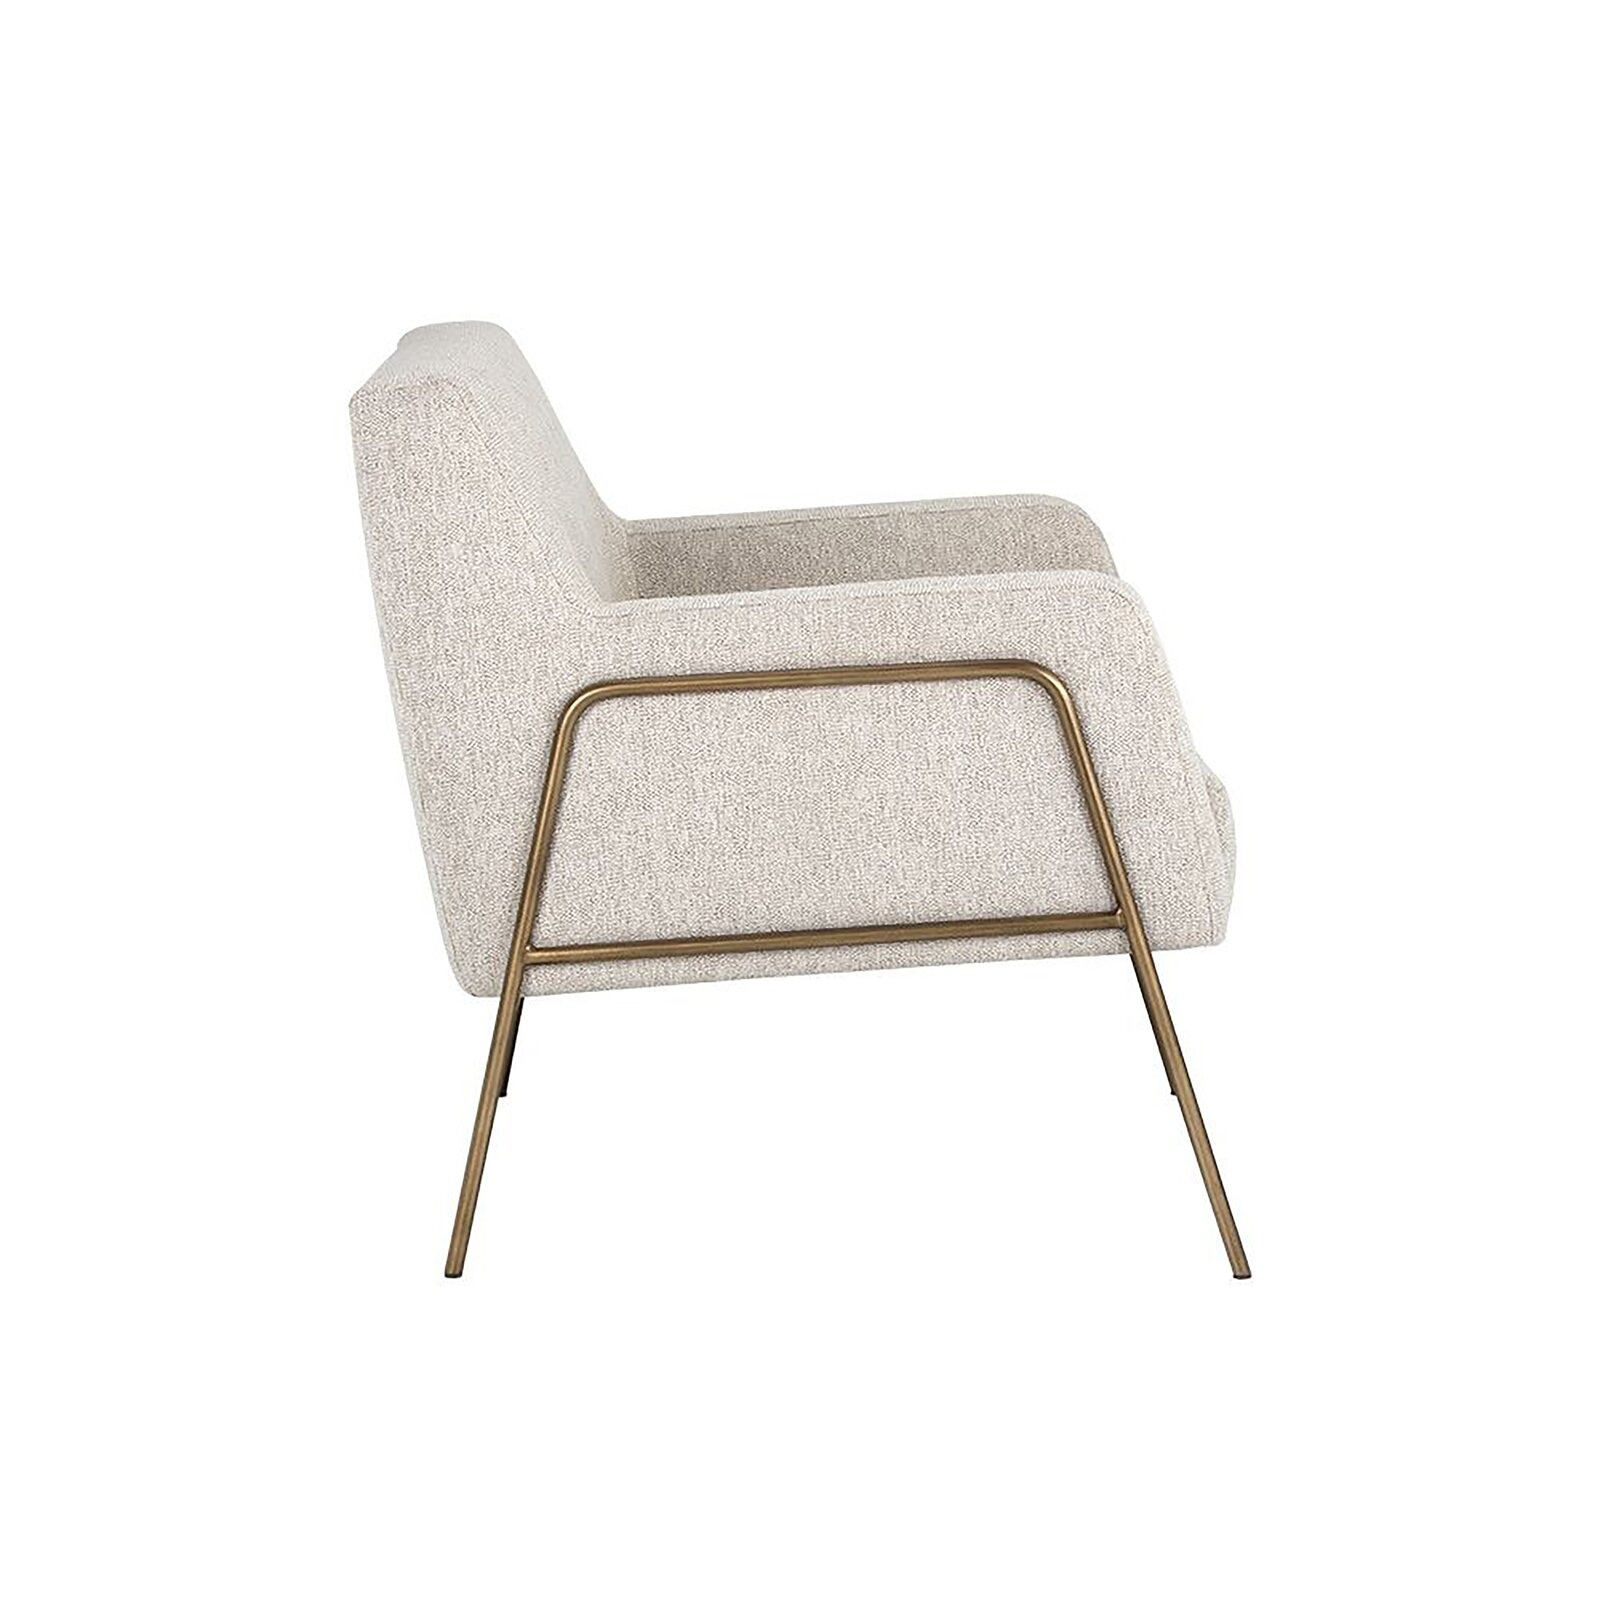obstacle: (352, 322, 1247, 1275)
